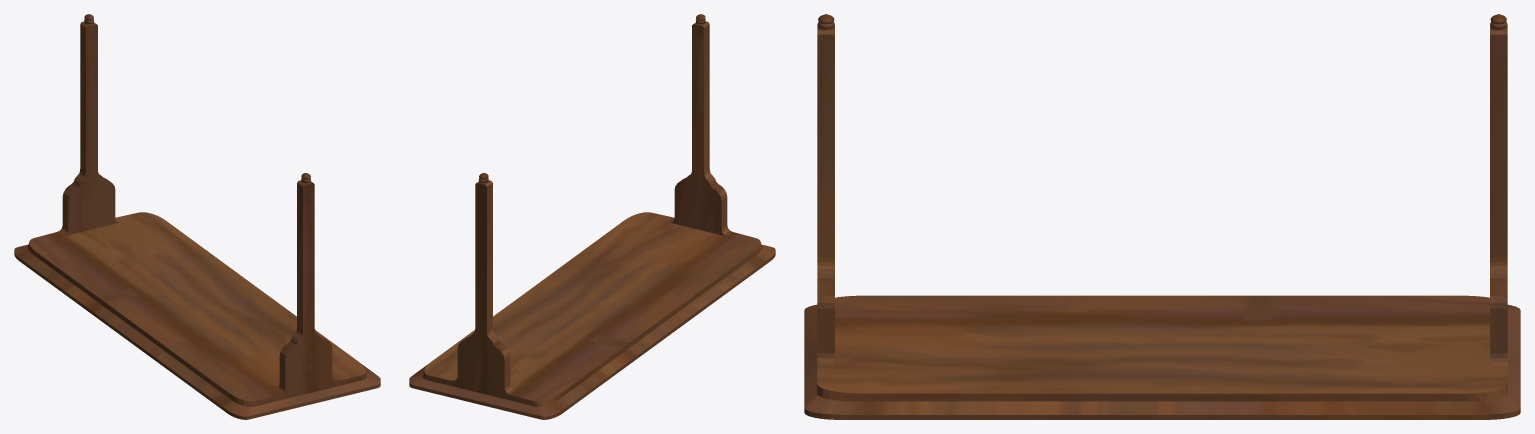
Rendered from Blackboard_Base.fbx.
3 renders of one model, left to right at view 1: azimuth 30°, elevation 25°; view 2: azimuth 150°, elevation 25°; view 3: azimuth 270°, elevation 25°, orthographic. The views are drawn at different scales.
Visible parts, largest first — view 1: Cube.001; view 2: Cube.001; view 3: Cube.001.
Boxes of the visible parts, box(x1,y1,x2,y2) form: Cube.001: box(14, 14, 380, 419); Cube.001: box(409, 14, 775, 419); Cube.001: box(804, 14, 1520, 419).
Size of the model in its own units: 17.98 by 26.22 by 48.61.
1 material, 1 textured.
